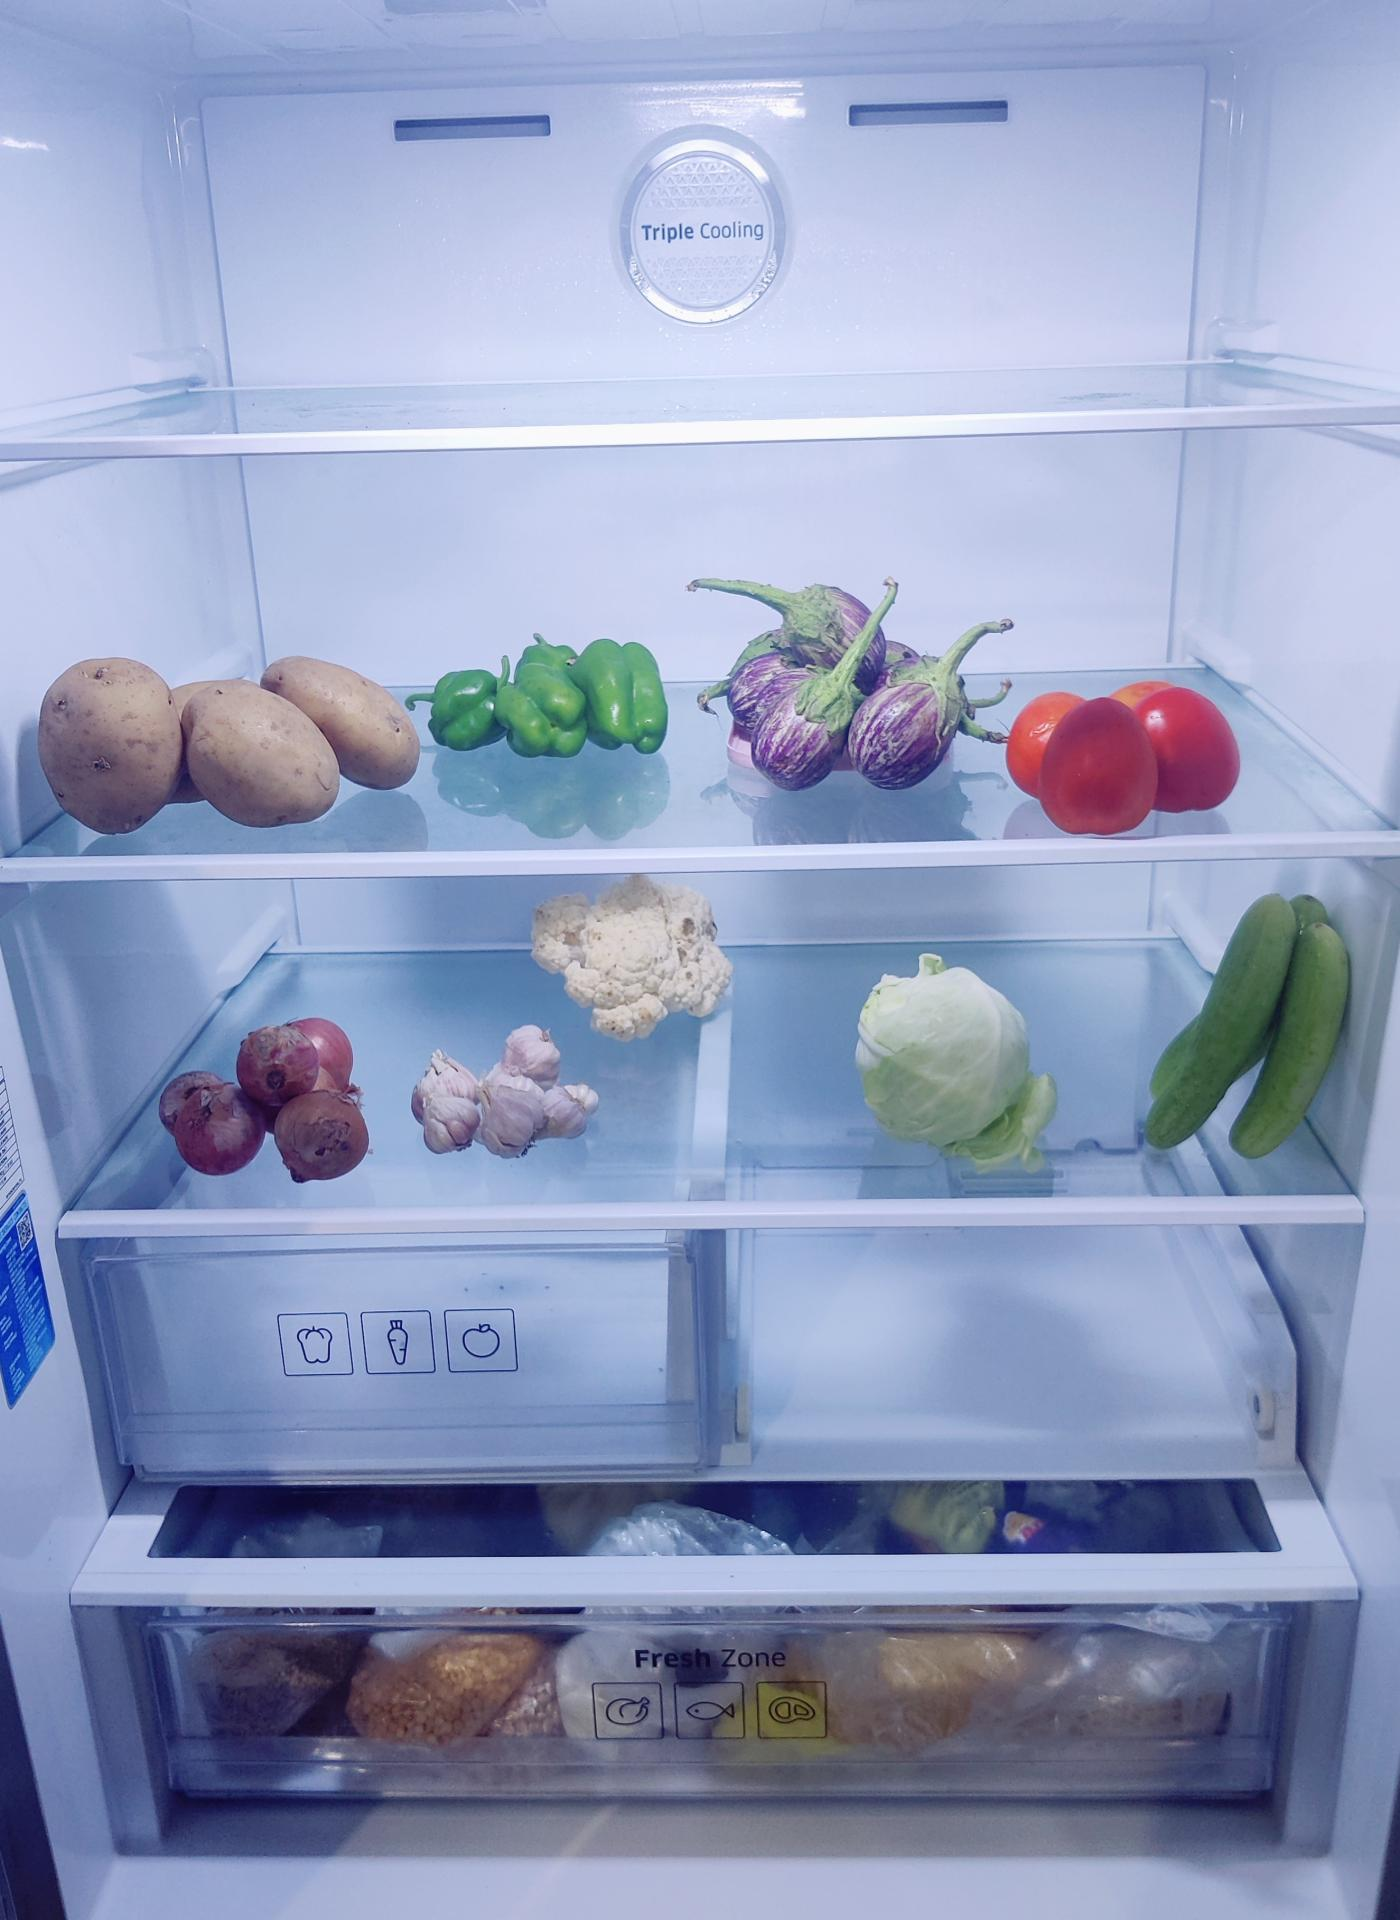brinjal: (731, 584, 972, 787)
cabbage: (856, 961, 1045, 1163)
capsicum: (428, 629, 666, 756)
cauliflower: (531, 871, 732, 1030)
cucumber: (1147, 900, 1355, 1181)
garlic: (412, 1027, 602, 1152)
onion: (167, 1009, 377, 1178)
potato: (34, 654, 422, 838)
tomato: (1011, 672, 1246, 827)
